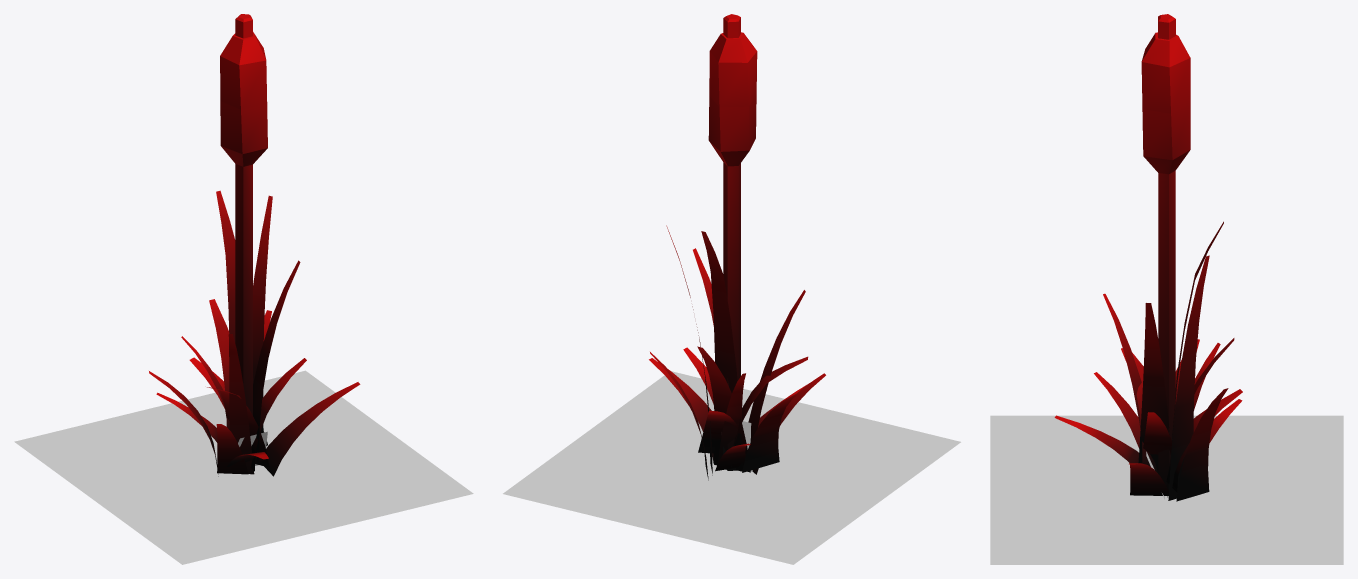
Rendered from vegetation.fbx.
3 views of the same model, side by side, from view 1: azimuth 30°, elevation 25°; view 2: azimuth 150°, elevation 25°; view 3: azimuth 270°, elevation 25° (orthographic). The views are drawn at different scales.
Parts seen in each view (by area): view 1: Ground, Cylinder, Grass; view 2: Ground, Cylinder, Grass; view 3: Ground, Cylinder, Grass.
Boxes of the visible parts, x1,y1,x2,y2 form: Ground: [14, 370, 473, 564]; Cylinder: [149, 14, 360, 476]; Grass: [156, 299, 306, 474]; Ground: [503, 371, 960, 564]; Cylinder: [649, 14, 808, 475]; Grass: [650, 346, 825, 480]; Ground: [990, 415, 1343, 564]; Cylinder: [1054, 14, 1242, 500]; Grass: [1094, 338, 1242, 501].
Size of the model in its own units: 200 by 305 by 200.
